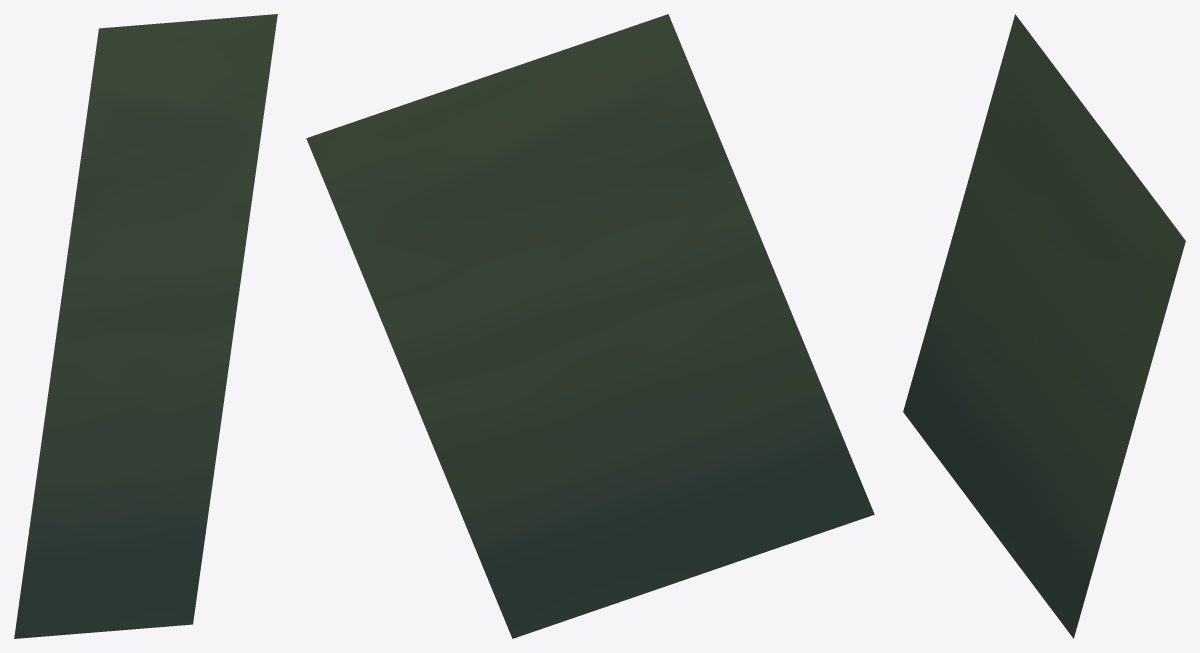
File: pplane107_lambert6_0_lev2.glb
3 views of the same model, side by side, from view 1: azimuth 30°, elevation 25°; view 2: azimuth 150°, elevation 25°; view 3: azimuth 270°, elevation 25° (orthographic). The views are drawn at different scales.
Visible parts, largest first — view 1: pplane107_lambert6_0_lev2; view 2: pplane107_lambert6_0_lev2; view 3: pplane107_lambert6_0_lev2.
Part boxes in pixels (x1,y1,x2,y2): pplane107_lambert6_0_lev2: [14, 14, 277, 638]; pplane107_lambert6_0_lev2: [306, 14, 874, 638]; pplane107_lambert6_0_lev2: [903, 14, 1185, 638].
Bounding box in the file's own units: 0.1239 × 0.1814 × 0.0815.
Materials: 1 (1 with a texture image).
